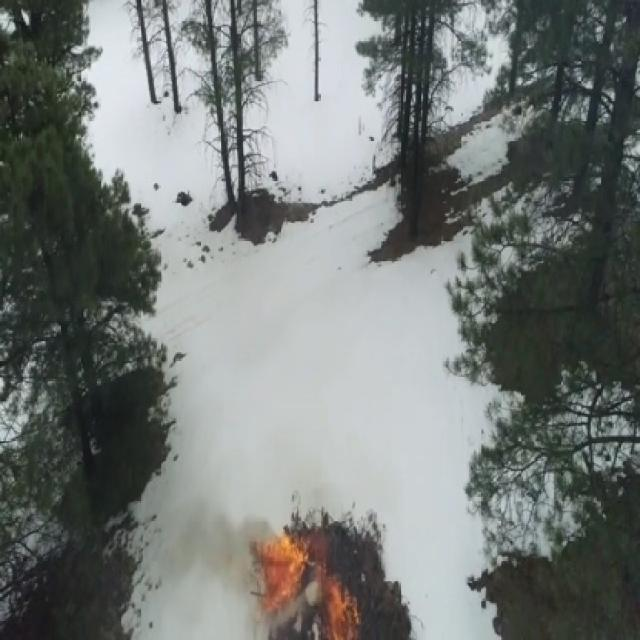Fire: (260, 540, 286, 609), (330, 590, 356, 640), (282, 535, 302, 598), (297, 535, 326, 561), (318, 564, 338, 600)
